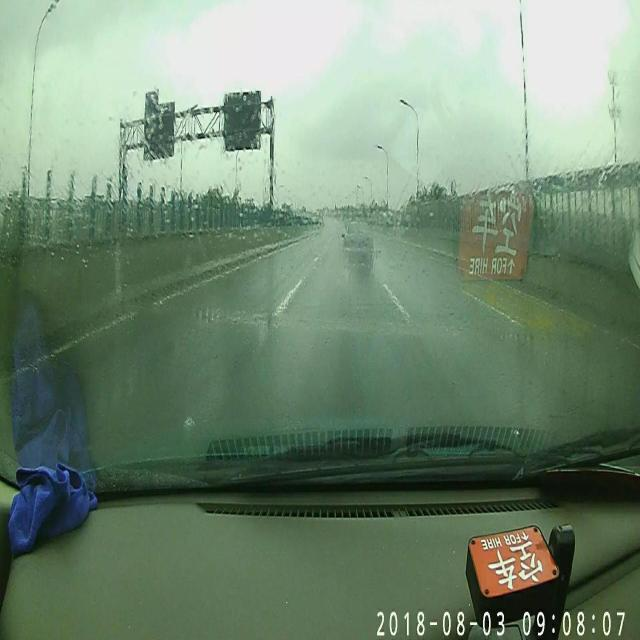car: (340, 216, 376, 266)
